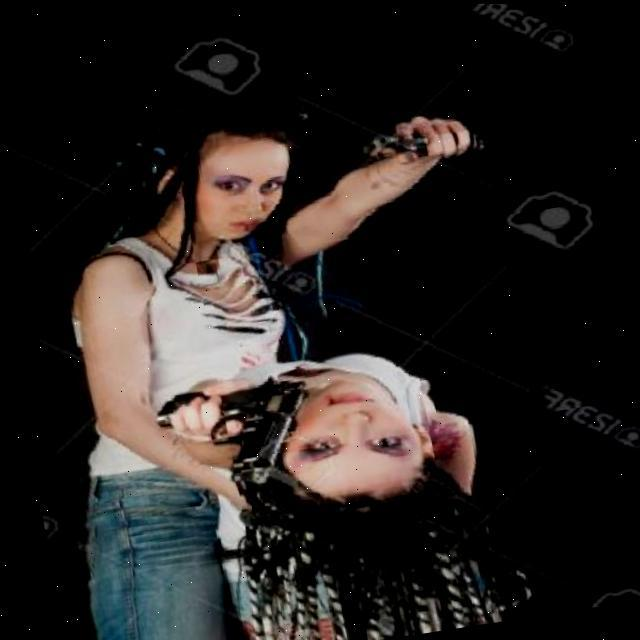gun: (154, 362, 321, 508), (344, 118, 470, 173)
